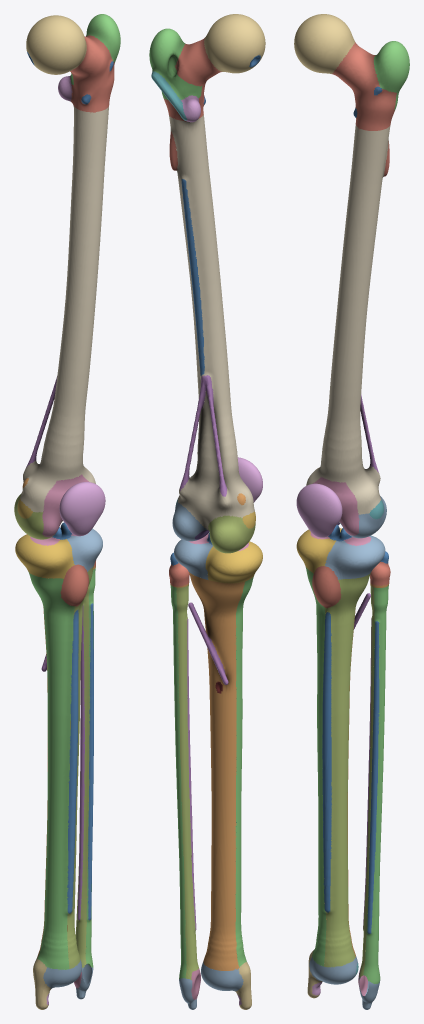
The model's file is femur-tibia-y-perone-anterior.glb.
3 views of the same model, side by side, from view 1: azimuth 30°, elevation 25°; view 2: azimuth 150°, elevation 25°; view 3: azimuth 330°, elevation 25° (orthographic).
Visible parts, largest first — view 1: femur_L_shaft, tibia_L_medial_surface, femur_L_head, femur_L_neck, fibula_L_medial_surface, tibia_L_anterior_crest, patella_L, tibia_L_medial_condyle, tibia_L_lateral_surface, fibula_L_anterior_border, fibula_L_interosseous_border, femur_L_patellar_surface (+10 smaller); view 2: femur_L_shaft, tibia_L_posterior_surface, fibula_L_medial_surface, femur_L_head, tibia_L_medial_surface, fibula_L_lateral_surface, femur_L_greater_trochanter, tibia_L_medial_condyle, femur_L_neck, femur_L_linea_aspera, femur_L_medial_condyle, femur_L_supracondylar_lines (+11 smaller); view 3: femur_L_shaft, tibia_L_lateral_surface, fibula_L_lateral_surface, femur_L_neck, femur_L_head, tibia_L_medial_surface, tibia_L_anterior_crest, patella_L, fibula_L_anterior_border, tibia_L_lateral_condyle, femur_L_greater_trochanter, fibula_L_medial_surface (+9 smaller).
Part boxes in pixels (<box>): femur_L_shaft: <box>20,105,108,520</box>; tibia_L_medial_surface: <box>28,571,74,969</box>; femur_L_head: <box>26,15,86,74</box>; femur_L_neck: <box>70,35,114,112</box>; fibula_L_medial_surface: <box>75,584,89,967</box>; tibia_L_anterior_crest: <box>67,609,78,913</box>; patella_L: <box>59,482,105,536</box>; tibia_L_medial_condyle: <box>15,534,74,578</box>; tibia_L_lateral_surface: <box>67,565,93,968</box>; fibula_L_anterior_border: <box>88,603,93,920</box>; fibula_L_interosseous_border: <box>77,605,84,920</box>; femur_L_patellar_surface: <box>42,474,88,537</box>; femur_L_shaft: <box>169,114,254,530</box>; tibia_L_posterior_surface: <box>189,572,245,970</box>; fibula_L_medial_surface: <box>176,585,198,979</box>; femur_L_head: <box>204,14,265,73</box>; tibia_L_medial_surface: <box>235,576,253,967</box>; fibula_L_lateral_surface: <box>170,585,186,978</box>; femur_L_greater_trochanter: <box>149,28,202,100</box>; tibia_L_medial_condyle: <box>205,541,262,583</box>; femur_L_neck: <box>163,38,221,121</box>; femur_L_linea_aspera: <box>181,179,204,375</box>; femur_L_medial_condyle: <box>208,515,255,553</box>; femur_L_supracondylar_lines: <box>179,375,227,496</box>; femur_L_shaft: <box>306,124,390,522</box>; tibia_L_lateral_surface: <box>324,573,370,967</box>; fibula_L_lateral_surface: <box>363,585,388,983</box>; femur_L_neck: <box>332,42,396,130</box>; femur_L_head: <box>294,14,354,73</box>; tibia_L_medial_surface: <box>305,567,326,966</box>; tibia_L_anterior_crest: <box>322,612,331,912</box>; patella_L: <box>296,483,342,537</box>; fibula_L_anterior_border: <box>367,621,379,933</box>; tibia_L_lateral_condyle: <box>325,535,385,579</box>; femur_L_greater_trochanter: <box>373,41,409,110</box>; fibula_L_medial_surface: <box>359,585,374,977</box>.
Size of the model in its own units: 0.0909 by 0.856 by 0.0755.
